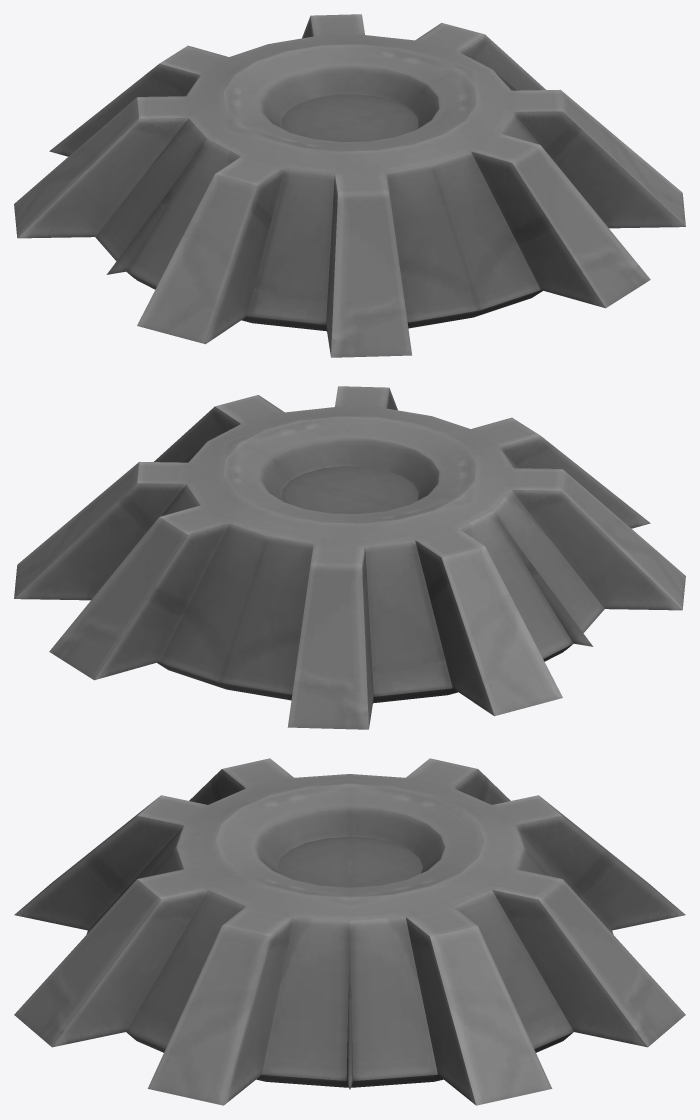
The model's file is obj_gear05_easy.gltf.
3 renders of one model, top to bottom at view 1: azimuth 30°, elevation 25°; view 2: azimuth 150°, elevation 25°; view 3: azimuth 270°, elevation 25°, orthographic. The views are drawn at different scales.
Parts seen in each view (by area): view 1: obj_gear05_easy; view 2: obj_gear05_easy; view 3: obj_gear05_easy.
Boxes of the visible parts, x1=… form: obj_gear05_easy: x1=14, y1=14, x2=685, y2=357; obj_gear05_easy: x1=14, y1=386, x2=685, y2=729; obj_gear05_easy: x1=14, y1=758, x2=685, y2=1105.
Size of what is drawn, in the model's own units: 0.3229 by 0.0729 by 0.3258.
Materials: 1 (1 with a texture image).
